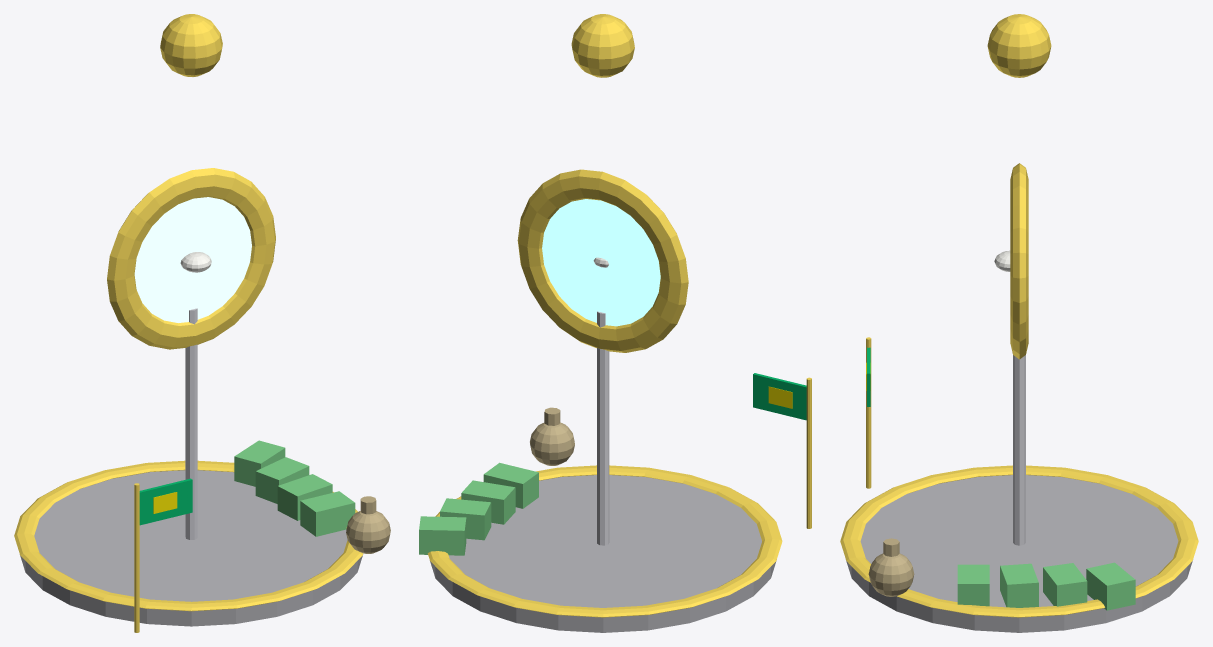
Rendered from Lupa_L4.fbx.
3 views of the same model, side by side, from view 1: azimuth 30°, elevation 25°; view 2: azimuth 150°, elevation 25°; view 3: azimuth 270°, elevation 25° (orthographic).
Visible parts, largest first — view 1: Lupa_L4.001; view 2: Lupa_L4.001; view 3: Lupa_L4.001.
Boxes of the visible parts, x1,y1,x2,y2 form: Lupa_L4.001: [14, 14, 390, 632]; Lupa_L4.001: [419, 14, 811, 632]; Lupa_L4.001: [840, 14, 1198, 632].
Size of the model in its own units: 3.92 by 6.55 by 3.92.
